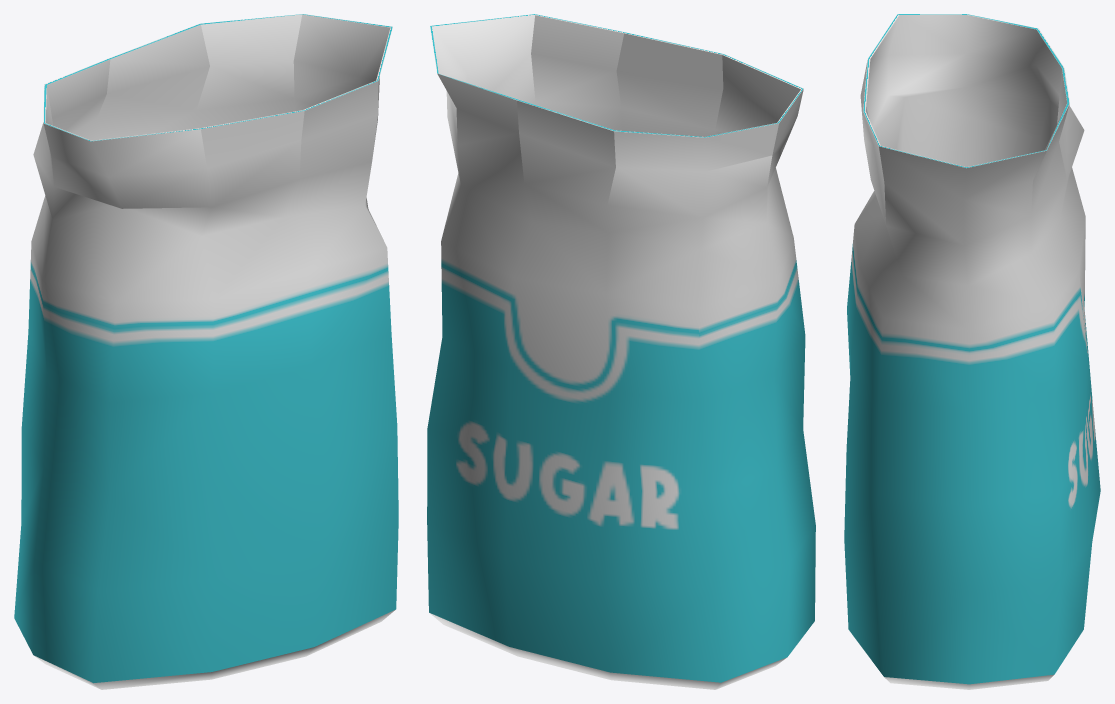
The model's file is Baking Mini Game Sugar Bag.fbx.
3 renders of one model, left to right at view 1: azimuth 30°, elevation 25°; view 2: azimuth 150°, elevation 25°; view 3: azimuth 270°, elevation 25°, orthographic. The views are drawn at different scales.
Visible parts, largest first — view 1: Sugar_Box; view 2: Sugar_Box; view 3: Sugar_Box.
Boxes of the visible parts, box(x1,y1,x2,y2) form: Sugar_Box: box(14, 14, 398, 689); Sugar_Box: box(427, 14, 815, 689); Sugar_Box: box(844, 14, 1100, 689).
Bounding box in the file's own units: 6.58 × 9.7 × 4.18.
1 material, 1 textured.
